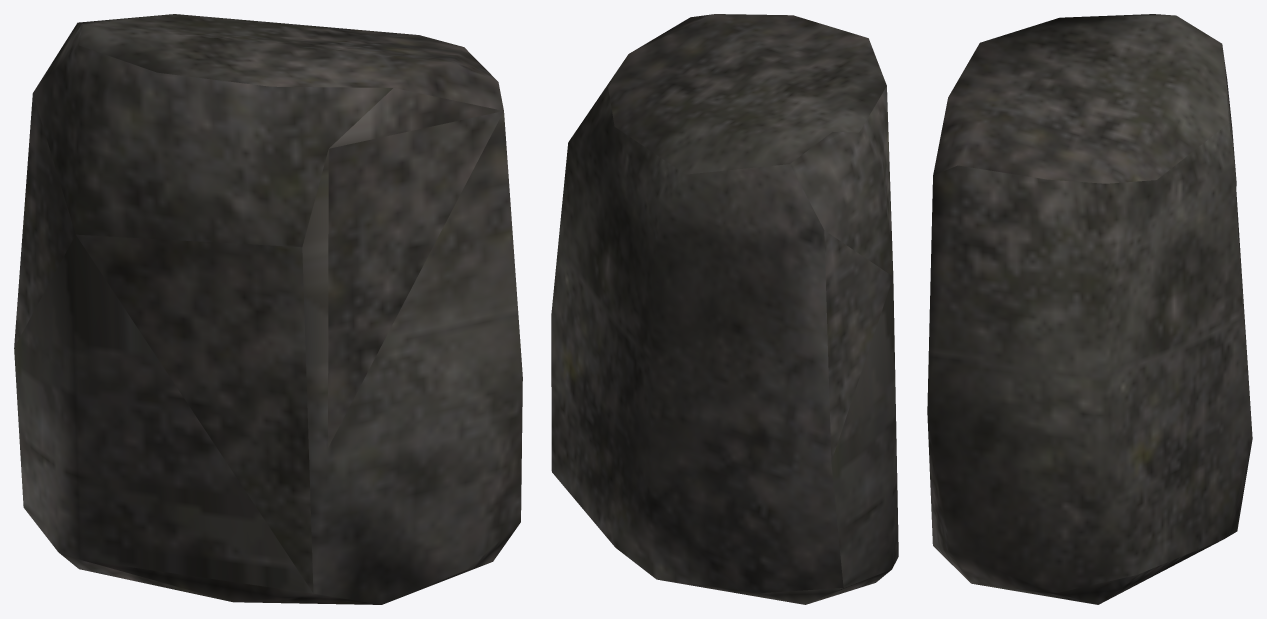
File: Rock2v2.glb
3 views of the same model, side by side, from view 1: azimuth 30°, elevation 25°; view 2: azimuth 150°, elevation 25°; view 3: azimuth 270°, elevation 25° (orthographic). The views are drawn at different scales.
Parts seen in each view (by area): view 1: rocks1_4; view 2: rocks1_4; view 3: rocks1_4.
Part boxes in pixels (x1,y1,x2,y2): rocks1_4: (14,14,522,604); rocks1_4: (551,14,898,604); rocks1_4: (927,14,1252,604).
Bounding box in the file's own units: 3.24 × 4.03 × 2.64.
Materials: 1 (1 with a texture image).
